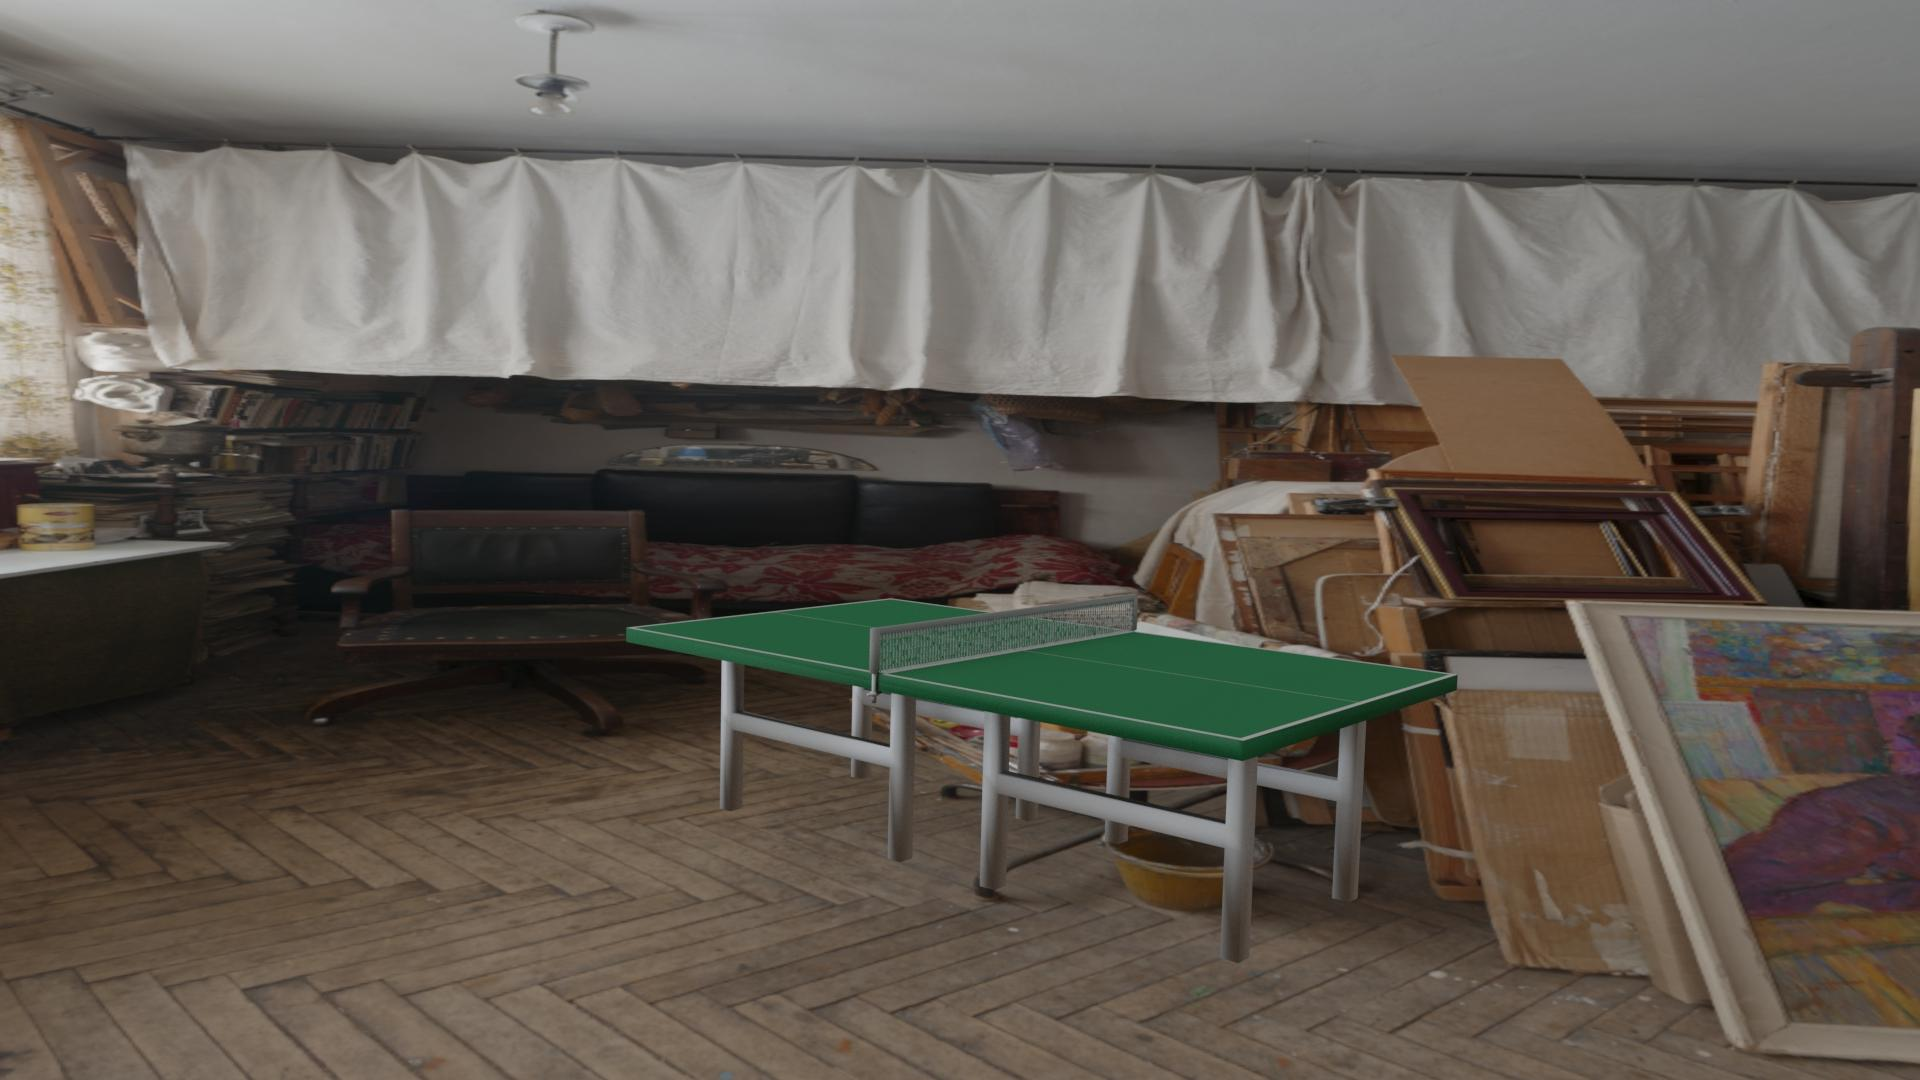table: (633, 599, 1451, 738)
